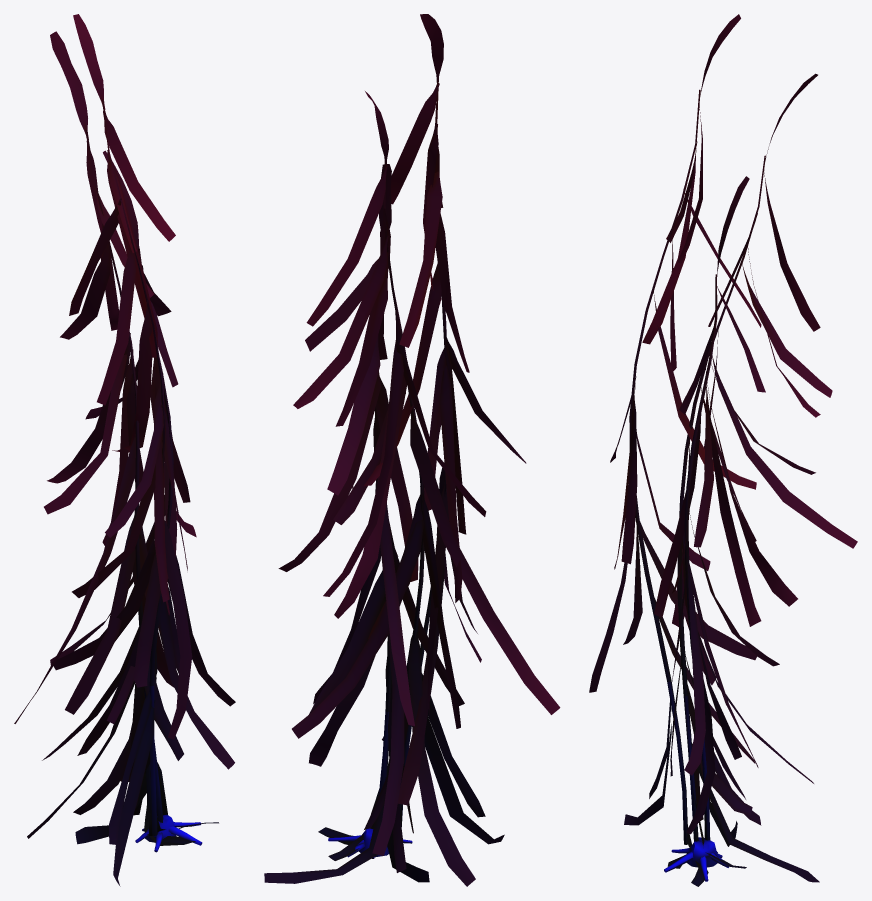
File: MESH_Flora_Kelp_s4025_q050.fbx
The picture shows the model from 3 angles, left to right: view 1: azimuth 30°, elevation 25°; view 2: azimuth 150°, elevation 25°; view 3: azimuth 270°, elevation 25°; orthographic projection. The views are drawn at different scales.
Visible parts, largest first — view 1: MESH_Flora_Kelp_s4025_q050_LOD0; view 2: MESH_Flora_Kelp_s4025_q050_LOD0; view 3: MESH_Flora_Kelp_s4025_q050_LOD0.
Boxes of the visible parts, x1,y1,x2,y2 form: MESH_Flora_Kelp_s4025_q050_LOD0: (14, 14, 235, 886); MESH_Flora_Kelp_s4025_q050_LOD0: (264, 14, 560, 886); MESH_Flora_Kelp_s4025_q050_LOD0: (589, 14, 857, 886).
Size of what is drawn, in the model's own units: 241 by 832 by 248.
